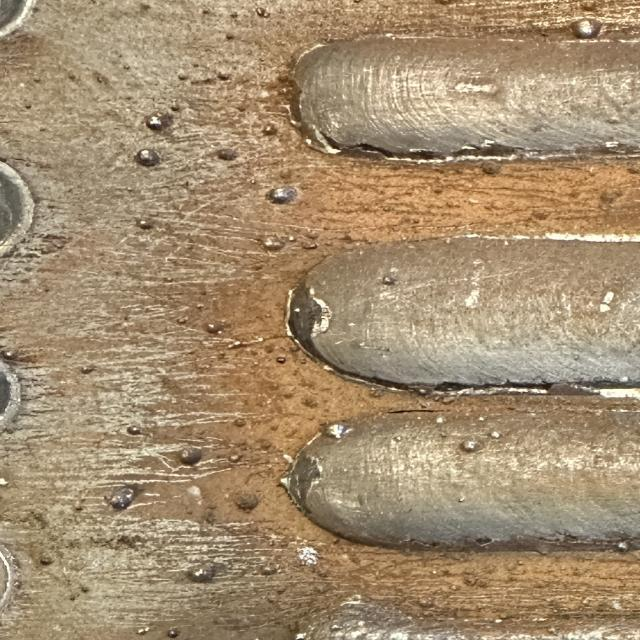Spatters: (108, 485, 137, 510), (570, 18, 602, 39), (267, 185, 298, 204), (323, 422, 352, 438), (297, 546, 320, 566), (188, 565, 215, 582), (235, 494, 260, 512), (135, 149, 160, 166), (224, 338, 263, 348), (180, 448, 202, 465), (262, 236, 285, 250), (145, 114, 162, 130), (482, 162, 502, 175), (460, 440, 480, 452), (135, 218, 155, 230), (217, 149, 238, 160), (260, 565, 280, 576), (262, 124, 278, 136), (205, 324, 225, 333), (205, 324, 222, 334), (418, 598, 435, 608), (127, 426, 142, 435), (302, 240, 317, 249), (255, 8, 268, 18), (617, 541, 628, 552), (80, 366, 95, 374), (382, 277, 397, 285), (167, 629, 180, 638), (217, 72, 230, 81), (2, 350, 13, 359), (490, 431, 502, 439), (40, 558, 53, 565), (137, 628, 150, 635), (295, 632, 306, 640), (277, 356, 287, 364), (80, 586, 90, 594), (435, 416, 445, 424), (330, 624, 342, 630), (0, 478, 8, 486), (225, 34, 235, 40), (170, 105, 180, 111), (178, 75, 188, 81), (68, 595, 77, 601), (225, 34, 233, 40), (440, 432, 447, 438), (25, 104, 32, 109), (478, 416, 485, 421), (395, 436, 402, 441), (251, 179, 255, 184), (125, 65, 129, 69)
